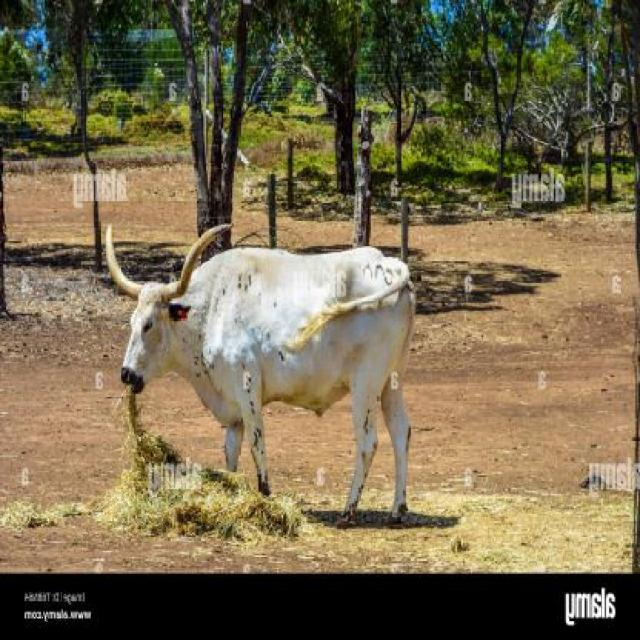Cow: (99, 228, 422, 542)
